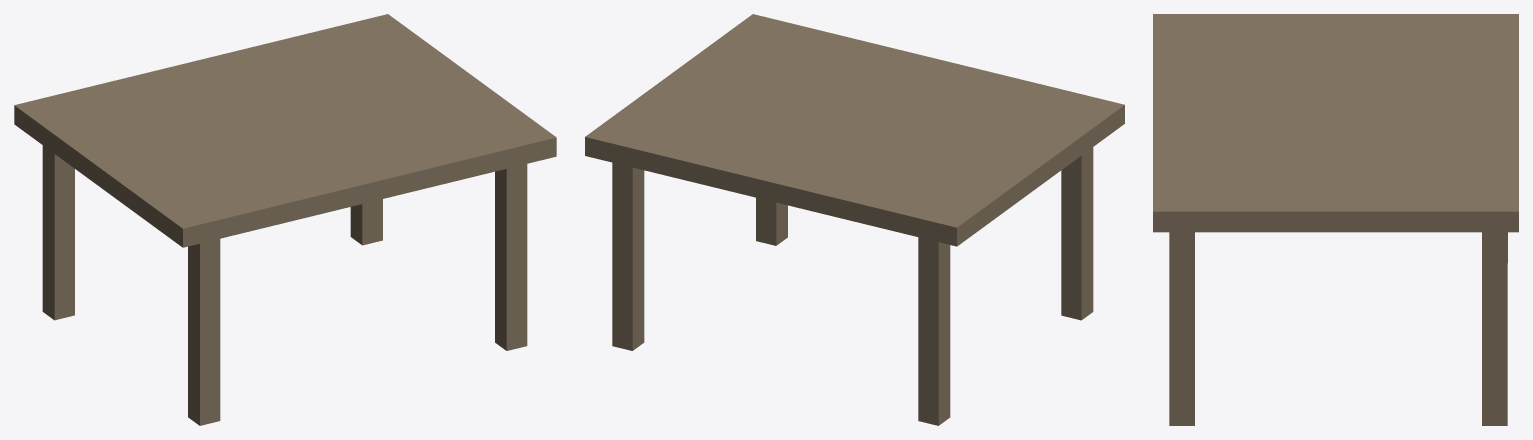
The model's file is tukue.fbx.
3 views of the same model, side by side, from view 1: azimuth 30°, elevation 25°; view 2: azimuth 150°, elevation 25°; view 3: azimuth 270°, elevation 25° (orthographic). The views are drawn at different scales.
Parts seen in each view (by area): view 1: pCube1, pasted__pCube2 (×3), pCube2; view 2: pCube1, pasted__pCube2 (×3), pCube2; view 3: pCube1, pCube2, pasted__pCube2.
Boxes of the visible parts, bbox=[...] form: pCube1: bbox=[14, 14, 556, 247]; pasted__pCube2 (×3): bbox=[42, 145, 382, 425]; pCube2: bbox=[495, 164, 527, 350]; pCube1: bbox=[585, 14, 1124, 246]; pasted__pCube2 (×3): bbox=[612, 147, 1093, 425]; pCube2: bbox=[756, 197, 787, 245]; pCube1: bbox=[1153, 14, 1518, 232]; pCube2: bbox=[1169, 232, 1194, 425]; pasted__pCube2: bbox=[1482, 232, 1507, 425].
Size of the model in its own units: 1.59 by 0.8484 by 1.24.
